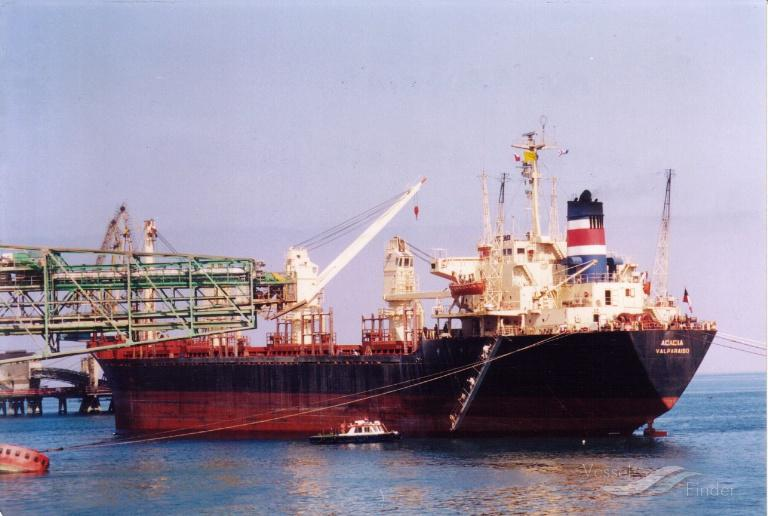OCR: (653, 331, 691, 358)
